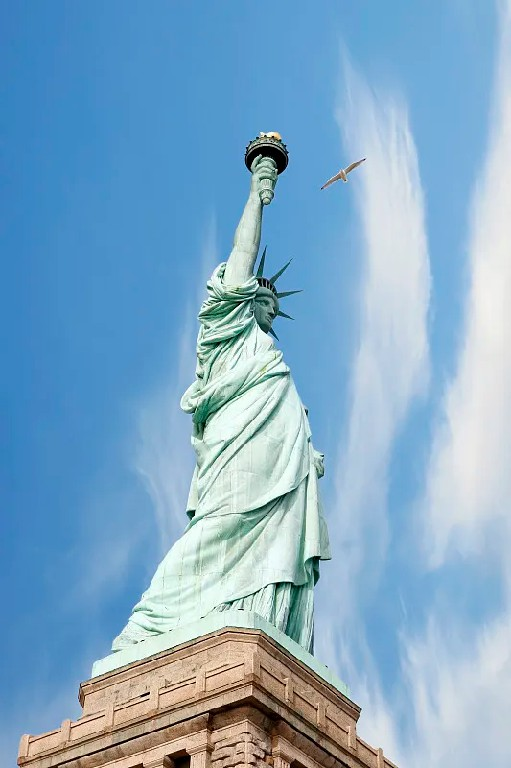SL: (18, 130, 398, 768)
